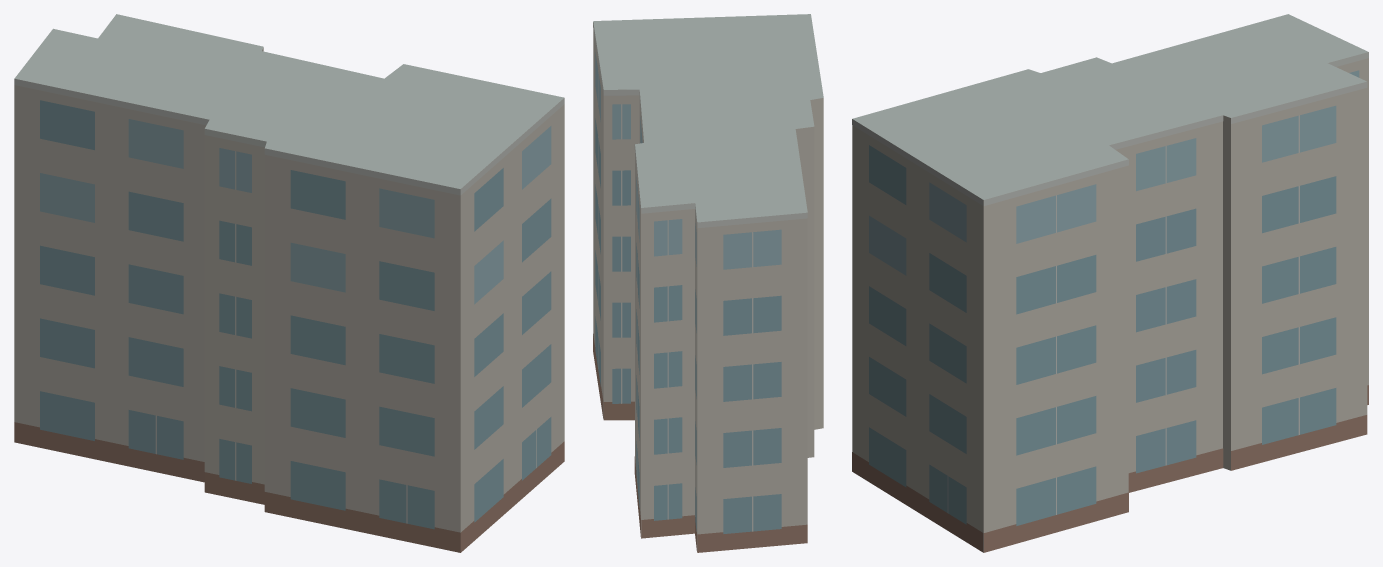
Rendered from survey-upis-32758461.glb.
3 views of the same model, side by side, from view 1: azimuth 30°, elevation 25°; view 2: azimuth 150°, elevation 25°; view 3: azimuth 270°, elevation 25° (orthographic). The views are drawn at different scales.
Parts seen in each view (by area): view 1: survey-upis-32758461.tmp; view 2: survey-upis-32758461.tmp; view 3: survey-upis-32758461.tmp.
Boxes of the visible parts, <box> form: survey-upis-32758461.tmp: <box>14,14,564,552</box>; survey-upis-32758461.tmp: <box>593,14,823,552</box>; survey-upis-32758461.tmp: <box>852,14,1368,552</box>.
Size of the model in its own units: 15.85 by 14 by 18.59.
